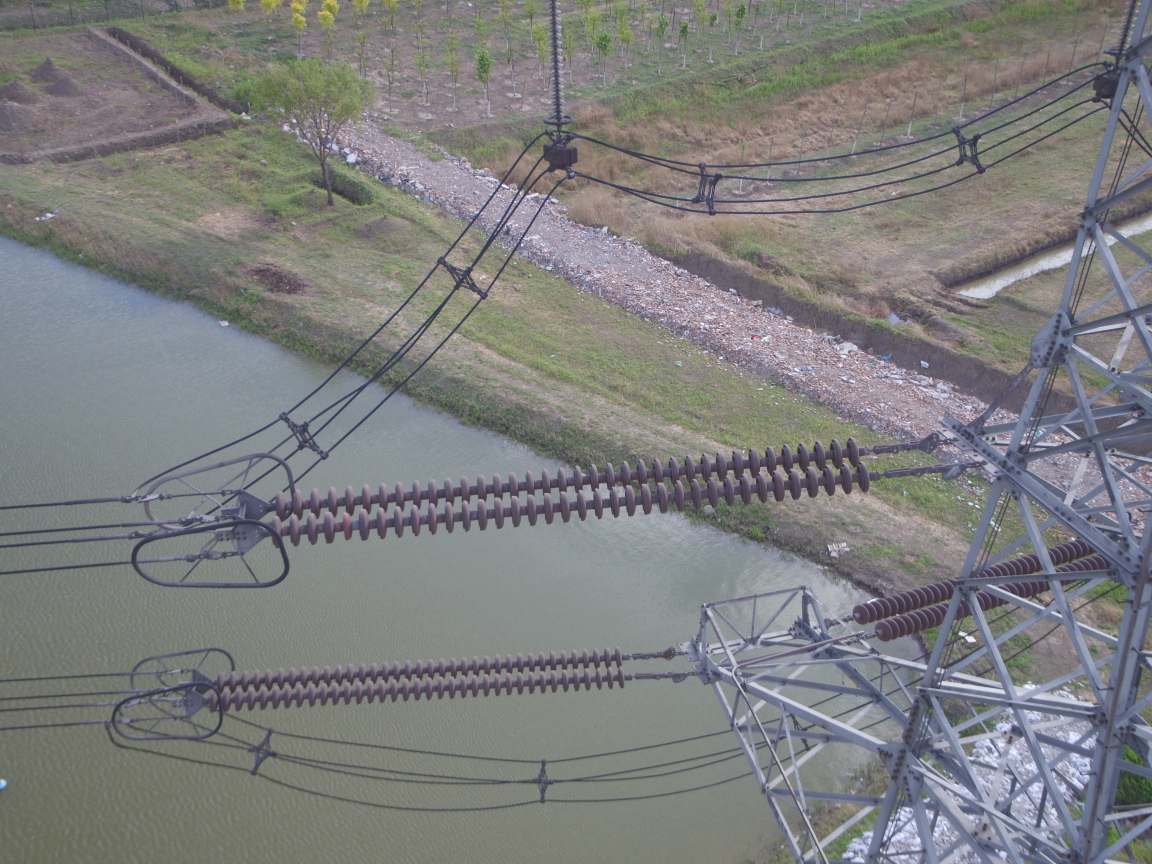insulator: (252, 434, 887, 549), (194, 640, 654, 715)
